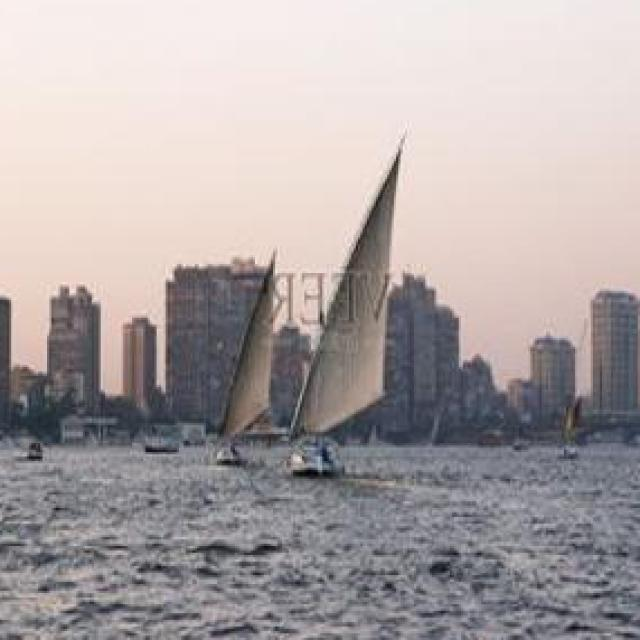sailboat: (284, 131, 412, 477), (214, 248, 289, 466), (552, 390, 589, 460)
